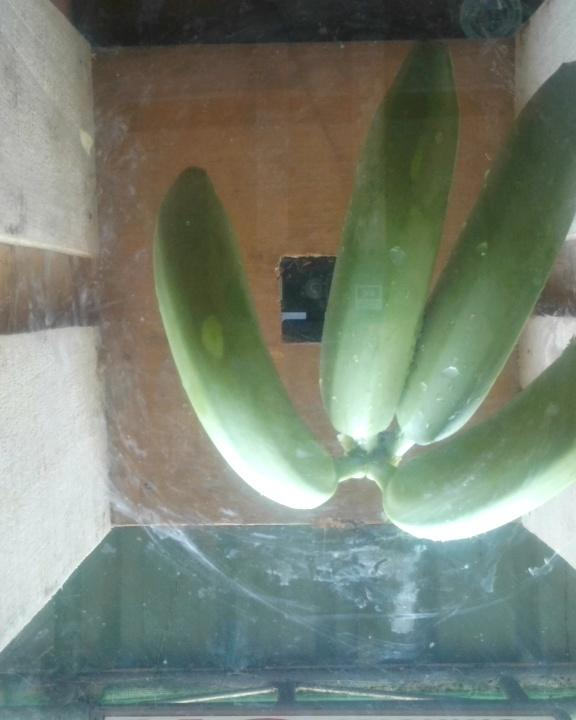SPOT: (138, 22, 576, 549)
